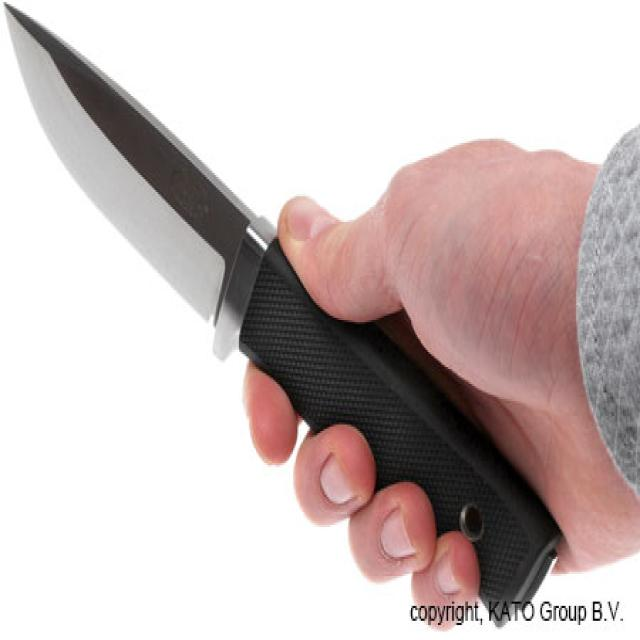knife: (1, 1, 566, 630)
